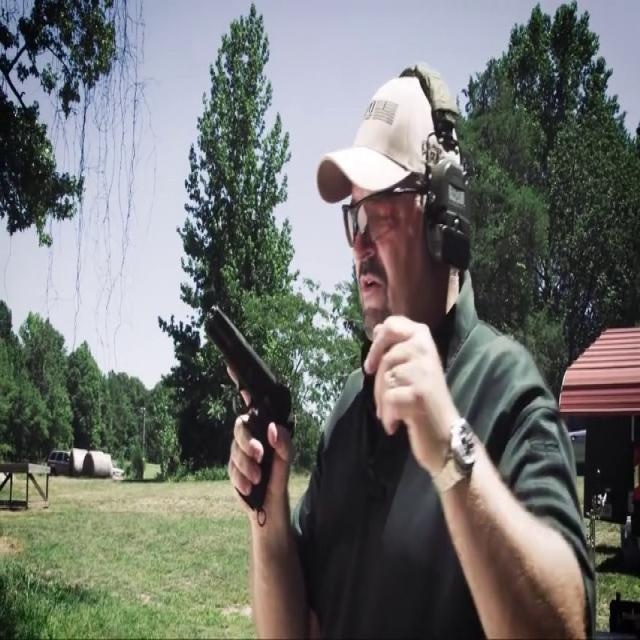gun-knife-thesis - v11 Yolov5 augmented: (200, 290, 293, 522)
